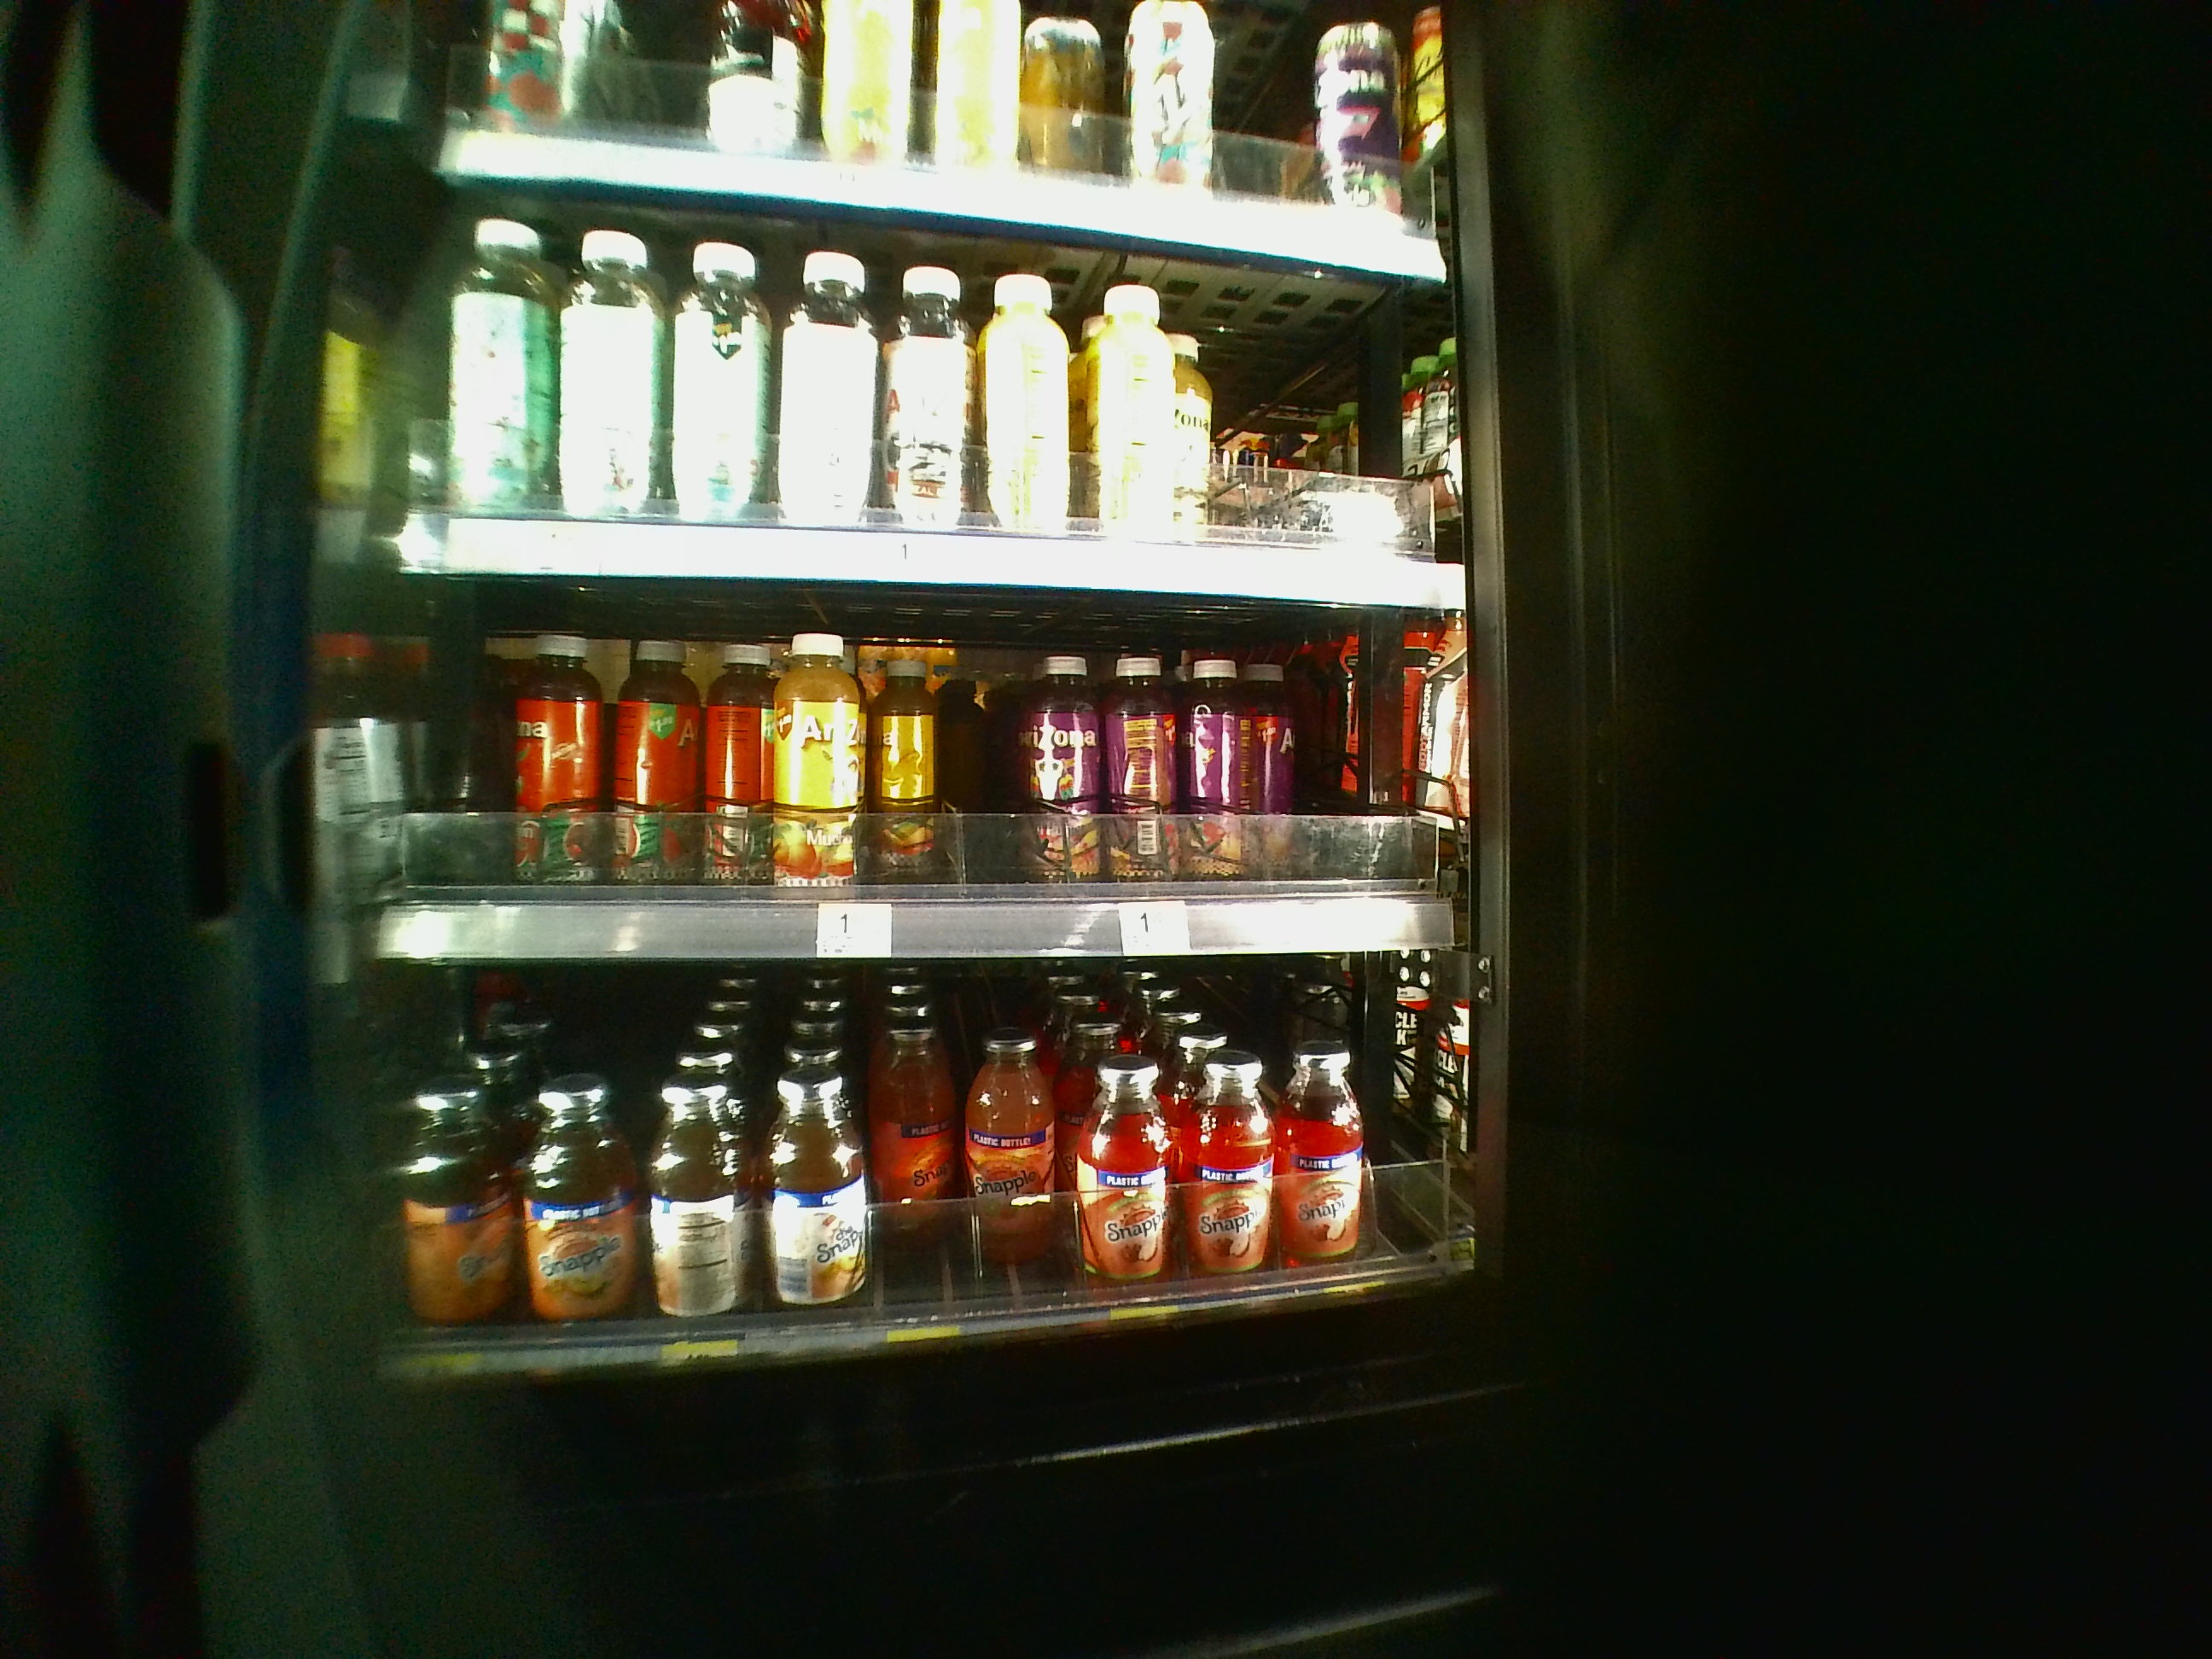shelf: (381, 969, 1474, 1373), (380, 579, 1468, 957)
